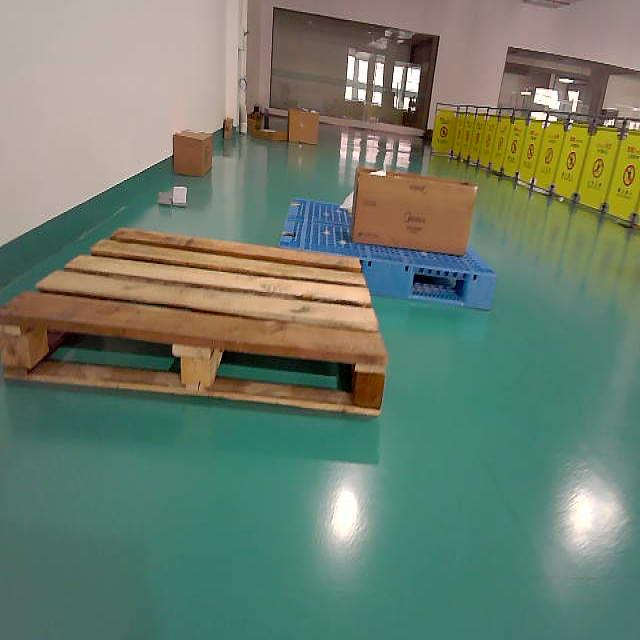euro: (0, 228, 386, 416)
